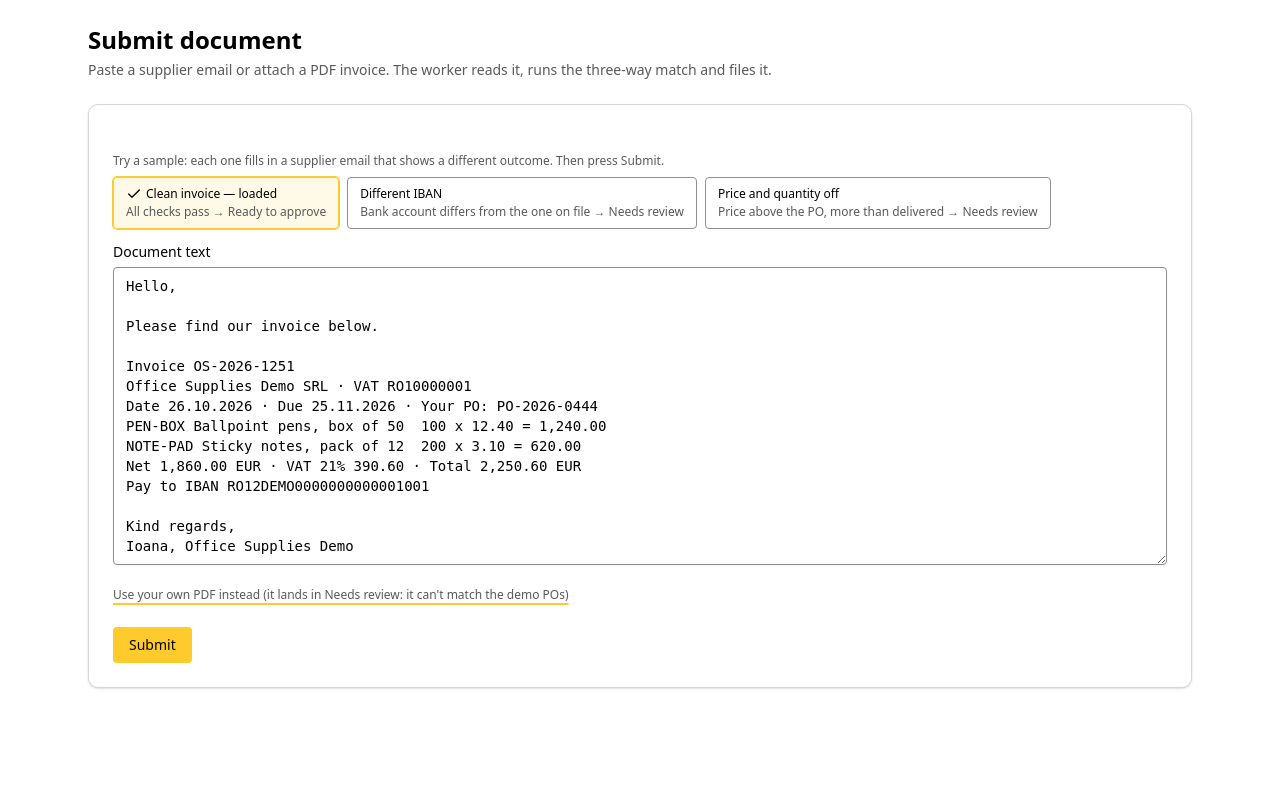
Scenario: Submit document › opens with a sample loaded for the demo account and the PDF upload tucked away
expect the button "Choose PDF" is not shown: met
Click the button "Use your own PDF instead" at [341, 595], box [113,587,569,603]
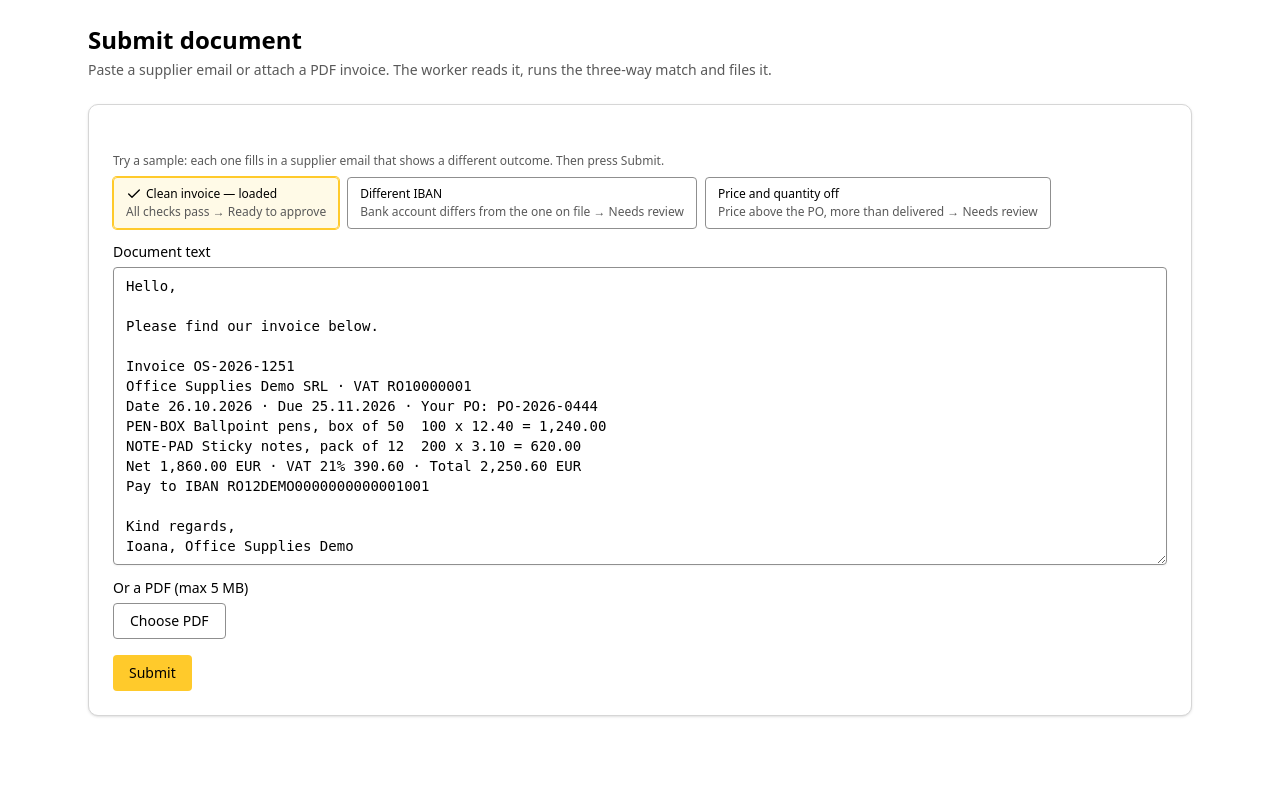
expect the button "Choose PDF" is shown: met, box [113,603,226,639]
